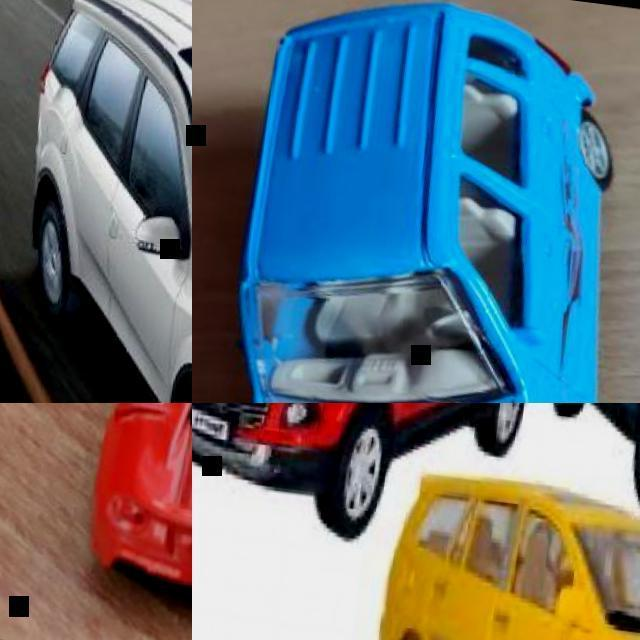car: (34, 0, 190, 396), (88, 408, 195, 601)
